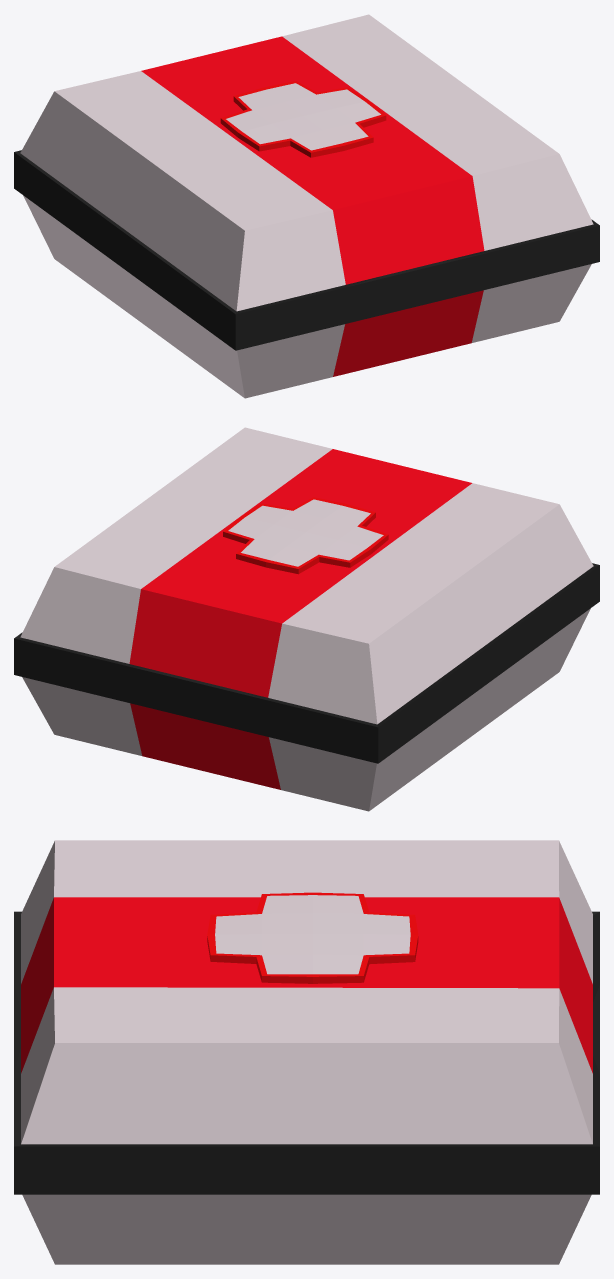
Rendered from medikit.fbx.
3 renders of one model, top to bottom at view 1: azimuth 30°, elevation 25°; view 2: azimuth 150°, elevation 25°; view 3: azimuth 270°, elevation 25°, orthographic. The views are drawn at different scales.
Parts seen in each view (by area): view 1: Cube; view 2: Cube; view 3: Cube.
Part boxes in pixels (bbox=[...]): Cube: bbox=[14, 14, 599, 398]; Cube: bbox=[14, 427, 599, 811]; Cube: bbox=[14, 840, 599, 1264].
Bounding box in the file's own units: 262 × 119 × 276.
